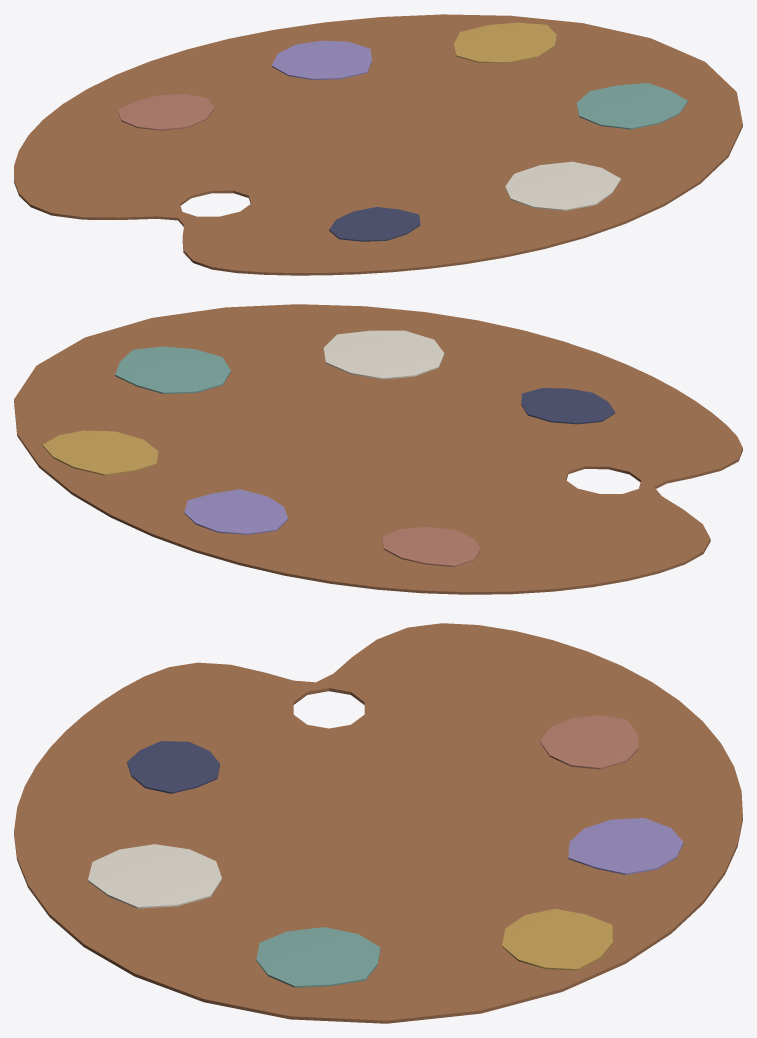
File: prop_palette_inlay.glb
3 renders of one model, top to bottom at view 1: azimuth 30°, elevation 25°; view 2: azimuth 150°, elevation 25°; view 3: azimuth 270°, elevation 25°, orthographic. The views are drawn at different scales.
Parts seen in each view (by area): view 1: PaletteInlayMesh; view 2: PaletteInlayMesh; view 3: PaletteInlayMesh.
Part boxes in pixels (x1,y1,x2,y2): PaletteInlayMesh: (14, 14, 742, 275); PaletteInlayMesh: (14, 304, 742, 594); PaletteInlayMesh: (14, 623, 742, 1023).
Size of the model in its own units: 5.5 by 0.036 by 4.26.
